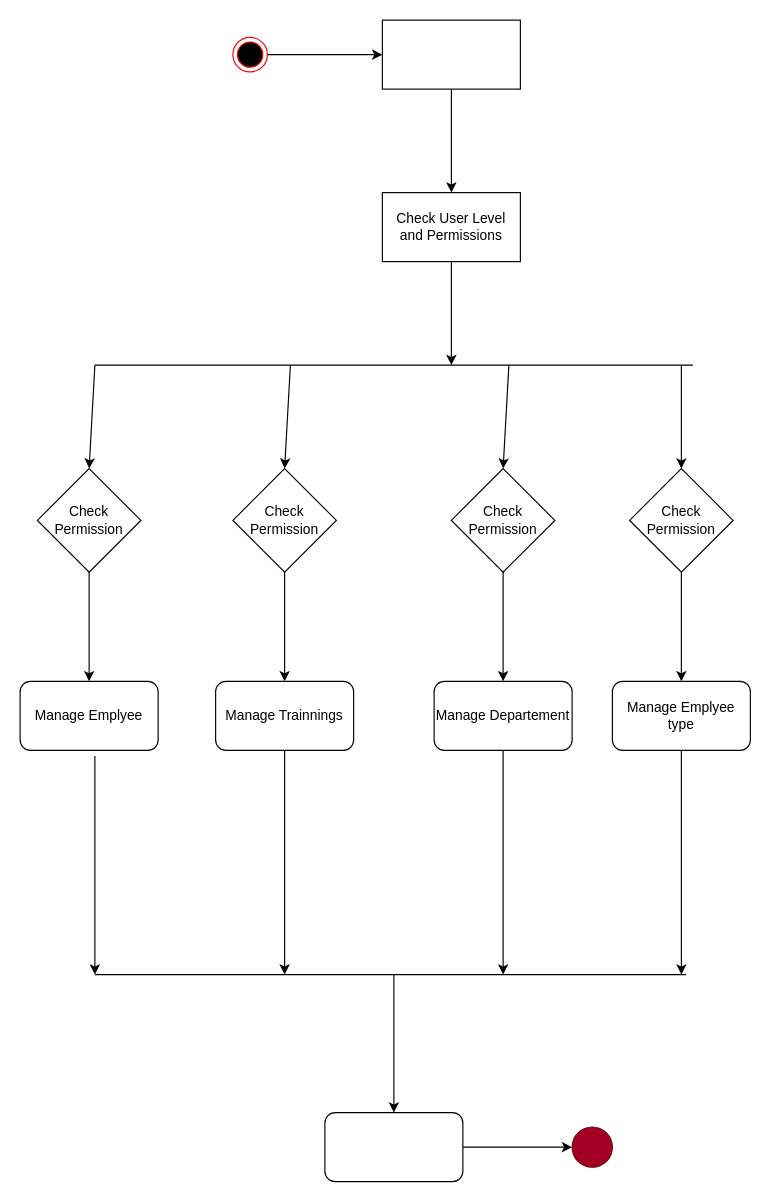
Image size: 771x1202. Some labels were removed from this diagram. Here are the shapes that lost their labels. From the top down, the centre of each, then its label:
point (450, 54): Log in To ReceptionApp
point (393, 1146): Logout from the system
